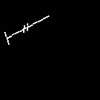treble_crochet: (4, 16, 48, 43)
